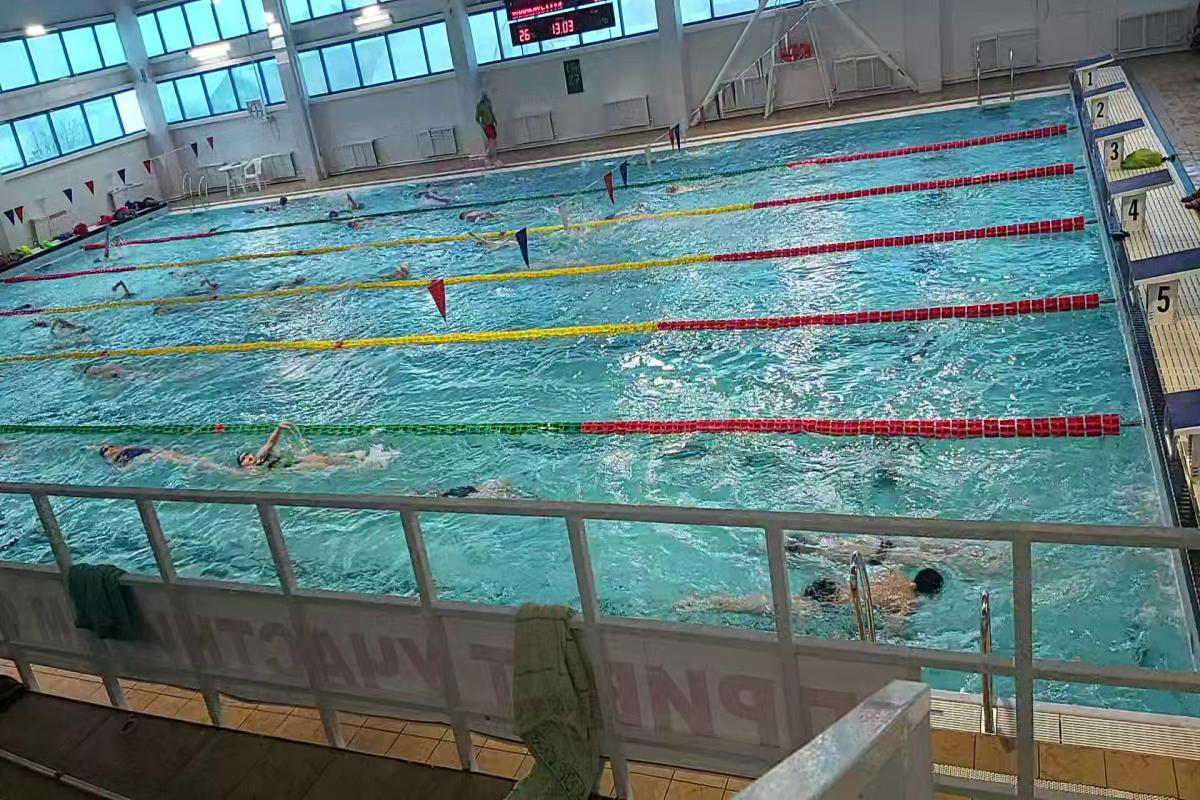swimmer: (693, 548, 952, 630), (217, 422, 389, 482), (785, 514, 993, 556), (71, 430, 213, 478), (73, 351, 148, 383), (450, 203, 518, 224), (472, 231, 515, 255), (105, 272, 141, 299), (382, 253, 419, 278)
